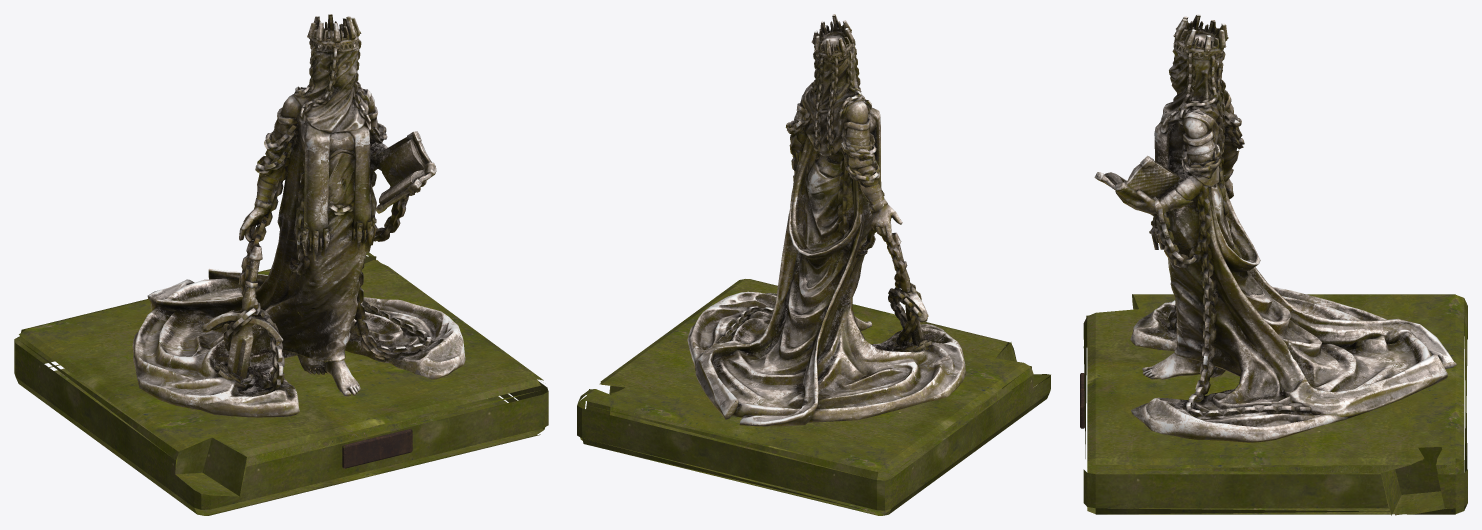
File: lod1_NOT_APPROVED.glb
3 renders of one model, left to right at view 1: azimuth 30°, elevation 25°; view 2: azimuth 150°, elevation 25°; view 3: azimuth 270°, elevation 25°, orthographic. The views are drawn at different scales.
Visible parts, largest first — view 1: gothic_statue_surface, f3_damp_concrete_surface, f3_oxidized_iron_surface; view 2: gothic_statue_surface, f3_damp_concrete_surface; view 3: gothic_statue_surface, f3_damp_concrete_surface.
Boxes of the visible parts, <box> form: gothic_statue_surface: <box>132,14,465,417</box>; f3_damp_concrete_surface: <box>14,252,548,515</box>; f3_oxidized_iron_surface: <box>342,429,412,468</box>; gothic_statue_surface: <box>687,14,966,426</box>; f3_damp_concrete_surface: <box>577,279,1050,515</box>; gothic_statue_surface: <box>1094,14,1456,442</box>; f3_damp_concrete_surface: <box>1083,294,1467,515</box>.
Bounding box in the file's own units: 1.53 × 1.74 × 1.44.
3 materials, 3 textured.
